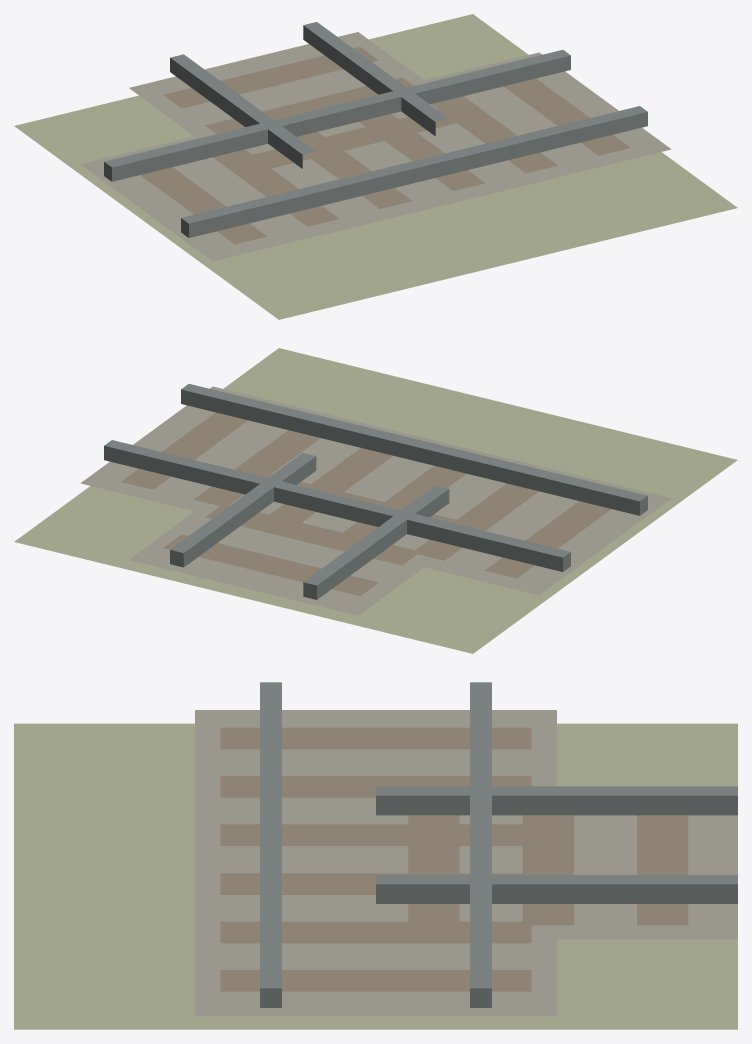
3 renders of one model, top to bottom at view 1: azimuth 30°, elevation 25°; view 2: azimuth 150°, elevation 25°; view 3: azimuth 270°, elevation 25°, orthographic. The views are drawn at different scales.
Parts seen in each view (by area): view 1: Near; view 2: Near; view 3: Near.
Boxes of the visible parts, left/top/right/bottom form: Near: left=14, top=14, right=737, bottom=319; Near: left=14, top=348, right=737, bottom=653; Near: left=14, top=682, right=737, bottom=1029.
Bounding box in the file's own units: 1 × 0.063 × 1.
